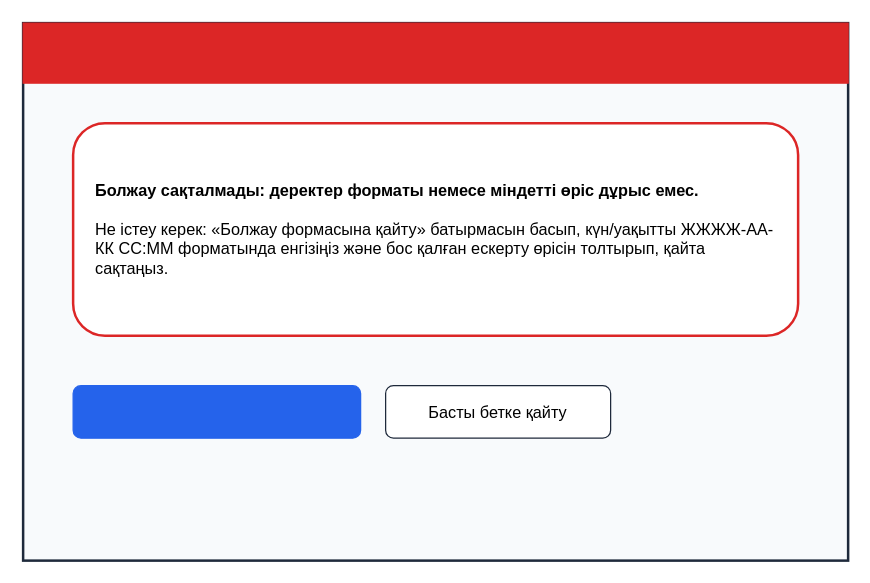
The diagram is 870 pixels wide and 583 high, and some of its shapes have lost their labels. Each missing label, with the box of its shape:
6. Қате хабарламасы (Т3, Т7 — Sequence alt қате тармағы): (22, 22, 848, 83)
Болжау формасына қайту: (72, 384, 361, 438)
